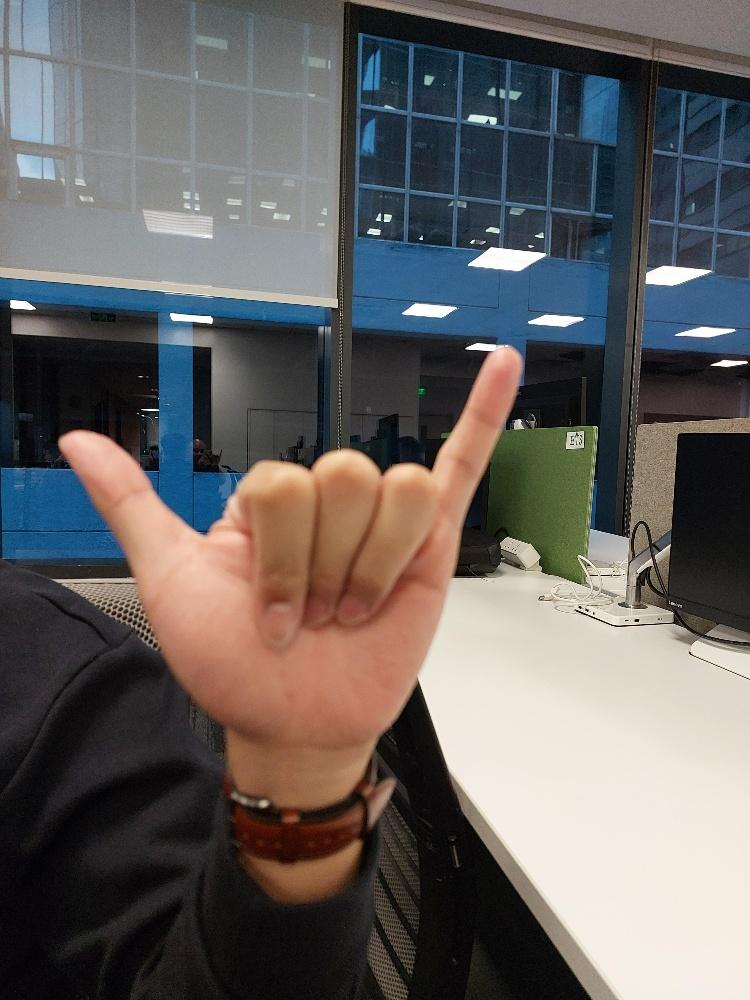y: (58, 344, 520, 742)
